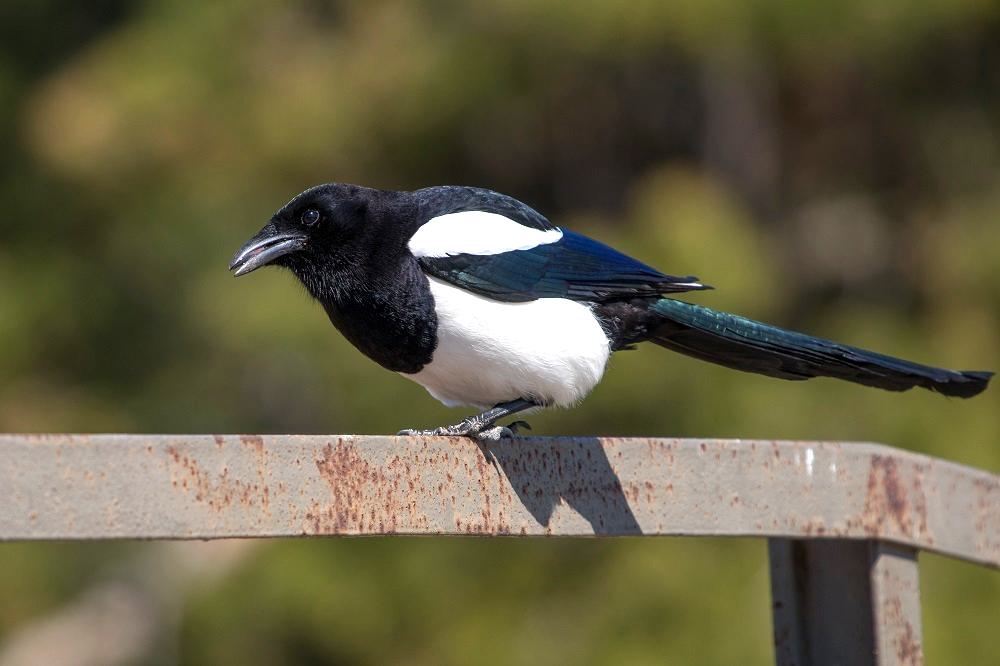PicaPica: (227, 181, 995, 440)
